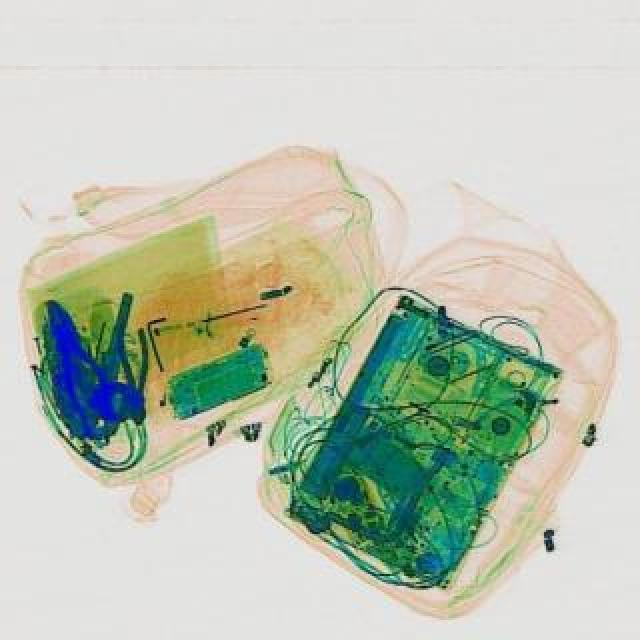wrench: (30, 290, 122, 434), (112, 324, 156, 426)
